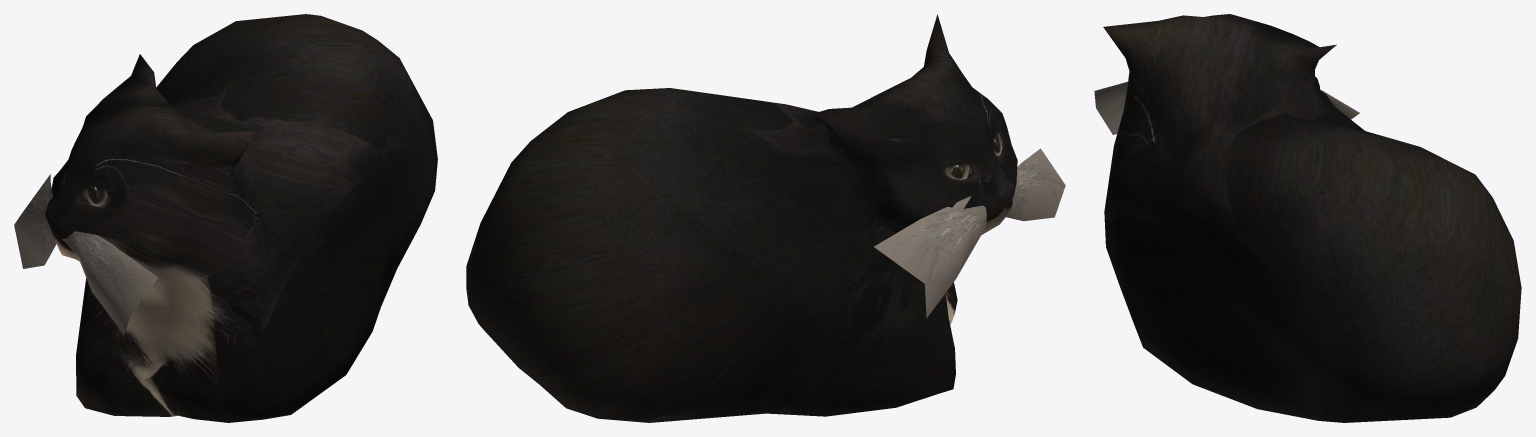
3 renders of one model, left to right at view 1: azimuth 30°, elevation 25°; view 2: azimuth 150°, elevation 25°; view 3: azimuth 270°, elevation 25°, orthographic. The views are drawn at different scales.
Parts seen in each view (by area): view 1: mw; view 2: mw; view 3: mw.
Part boxes in pixels (x1,y1,x2,y2): mw: (14,14,437,422); mw: (466,14,1065,422); mw: (1094,14,1521,422).
Size of the model in its own units: 2.78 by 1.87 by 2.33.
Materials: 2 (2 with a texture image).
